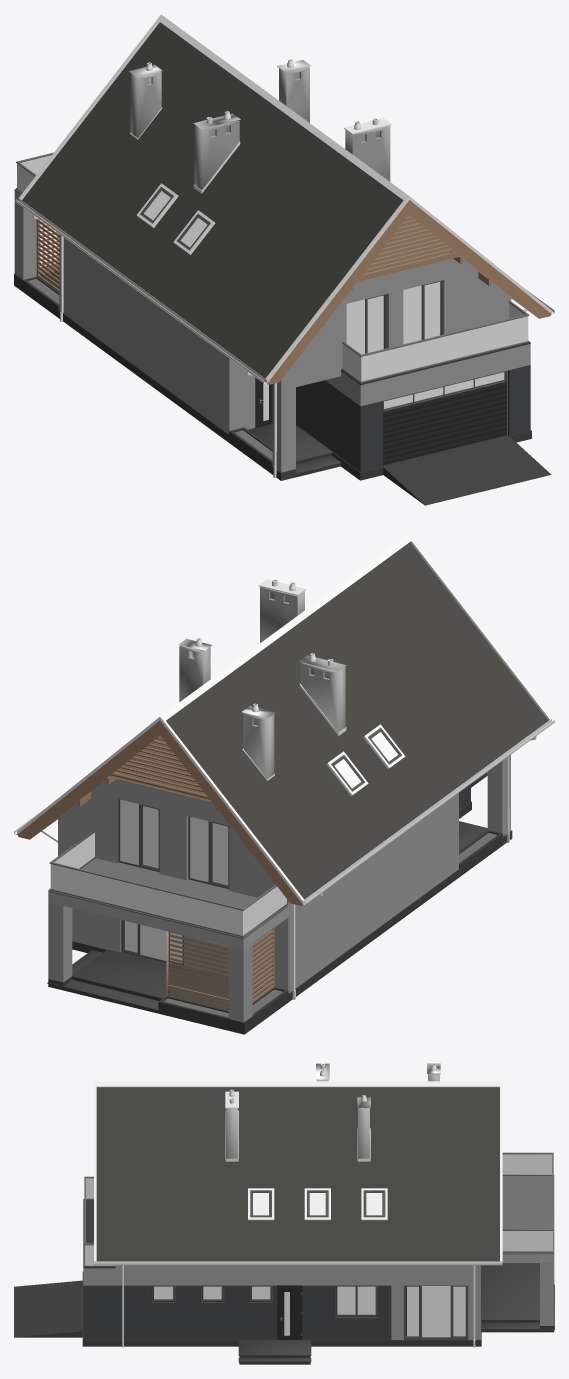
File: house3.glb
3 views of the same model, one above another, from view 1: azimuth 30°, elevation 25°; view 2: azimuth 150°, elevation 25°; view 3: azimuth 270°, elevation 25° (orthographic). The views are drawn at different scales.
Parts seen in each view (by area): view 1: roof.002, door.001, base.002, windoors.004, chimney.004, fence, windoors.014, roof.001, woods.003, roofmetal.004, wall, woods.001 (+2 smaller); view 2: roof.002, door.001, base.002, wall, chimney.004, fence.003, windoors.006, roof.001, woods.001, woods.003, roofmetal.004, base; view 3: roof.002, door.001, base.002, windoors.013, wall, windoors.010, fence.003, chimney.004, base, fence, balcony.
Part boxes in pixels (left/top/right/bottom): roof.002: left=15, top=14, right=554, bottom=477; door.001: left=59, top=216, right=530, bottom=472; base.002: left=14, top=263, right=551, bottom=505; windoors.004: left=383, top=370, right=506, bottom=465; chimney.004: left=129, top=59, right=391, bottom=190; fence: left=342, top=301, right=529, bottom=383; windoors.014: left=346, top=280, right=444, bottom=354; roof.001: left=267, top=200, right=551, bottom=384; woods.003: left=357, top=215, right=460, bottom=281; roofmetal.004: left=136, top=183, right=215, bottom=254; wall: left=14, top=189, right=36, bottom=279; woods.001: left=36, top=219, right=59, bottom=292; roof.002: left=14, top=534, right=554, bottom=905; door.001: left=58, top=736, right=470, bottom=993; base.002: left=47, top=755, right=512, bottom=1034; wall: left=48, top=858, right=288, bottom=1022; chimney.004: left=178, top=579, right=346, bottom=779; fence.003: left=49, top=830, right=287, bottom=937; windoors.006: left=118, top=799, right=229, bottom=965; roof.001: left=17, top=720, right=302, bottom=905; woods.001: left=166, top=927, right=274, bottom=1010; woods.003: left=109, top=735, right=211, bottom=801; roofmetal.004: left=326, top=724, right=405, bottom=796; base: left=48, top=977, right=161, bottom=1013; roof.002: left=94, top=1081, right=502, bottom=1347; door.001: left=83, top=1265, right=480, bottom=1339; base.002: left=14, top=1263, right=554, bottom=1362; windoors.013: left=151, top=1285, right=468, bottom=1338; wall: left=502, top=1175, right=554, bottom=1325; windoors.010: left=248, top=1188, right=387, bottom=1220; fence.003: left=502, top=1152, right=553, bottom=1252; chimney.004: left=225, top=1063, right=440, bottom=1158; base: left=239, top=1320, right=554, bottom=1364; fence: left=84, top=1176, right=115, bottom=1266; balcony: left=83, top=1199, right=115, bottom=1268.
Bounding box in the file's own units: 12.17 × 10.27 × 22.61.
Materials: 13 (7 with a texture image).
